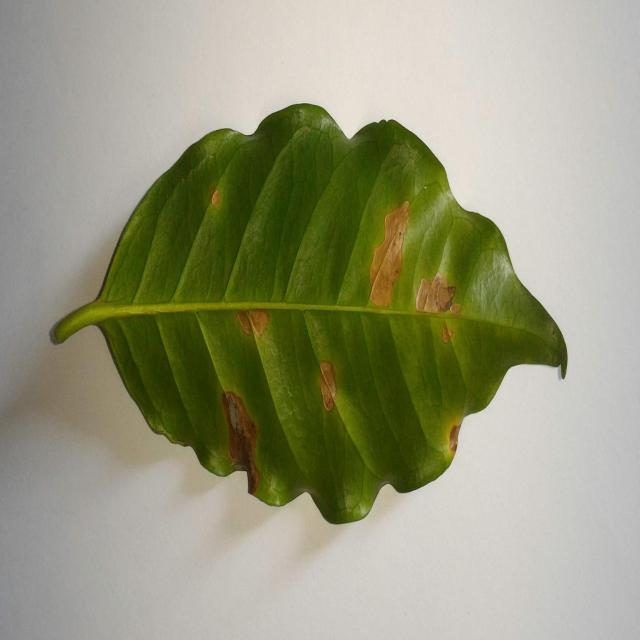Plaga-Minador: (49, 104, 568, 528)
